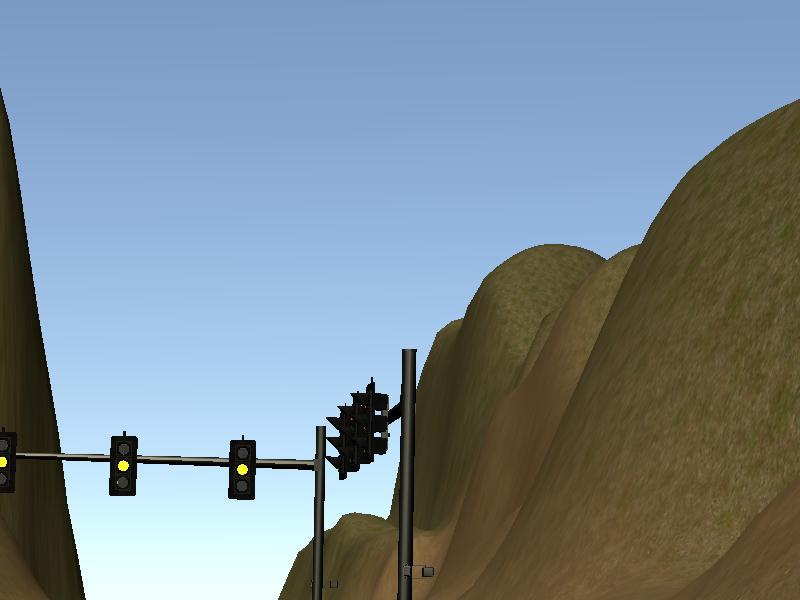yellow_light: (230, 441, 257, 498), (110, 438, 135, 495), (1, 434, 14, 488)
